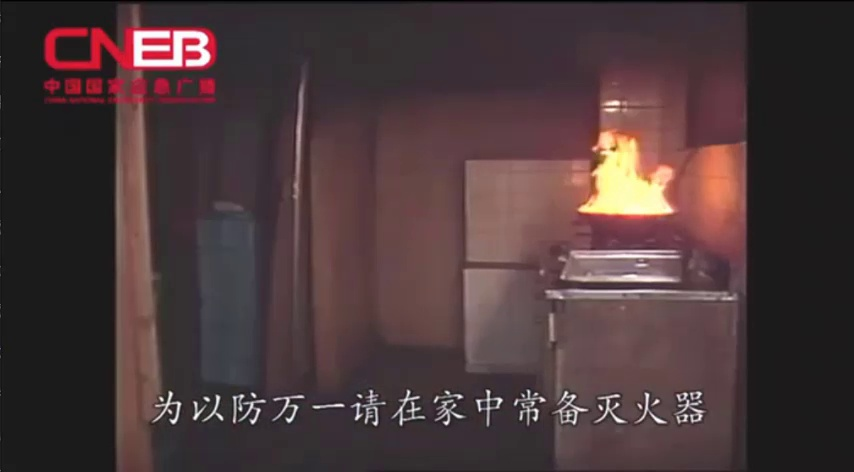fire: (578, 122, 688, 220)
